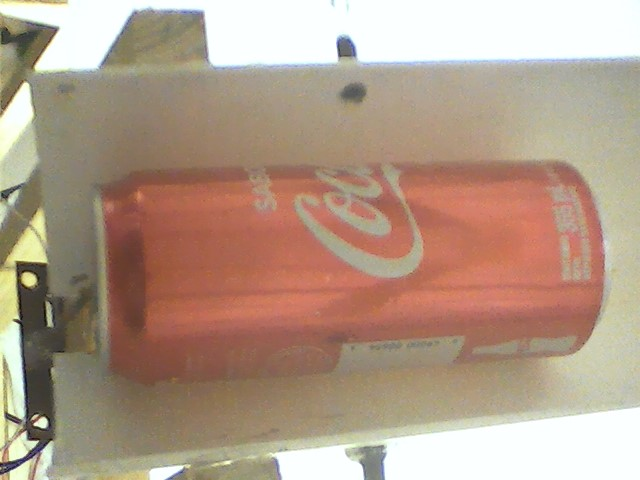lata: (87, 159, 611, 391)
